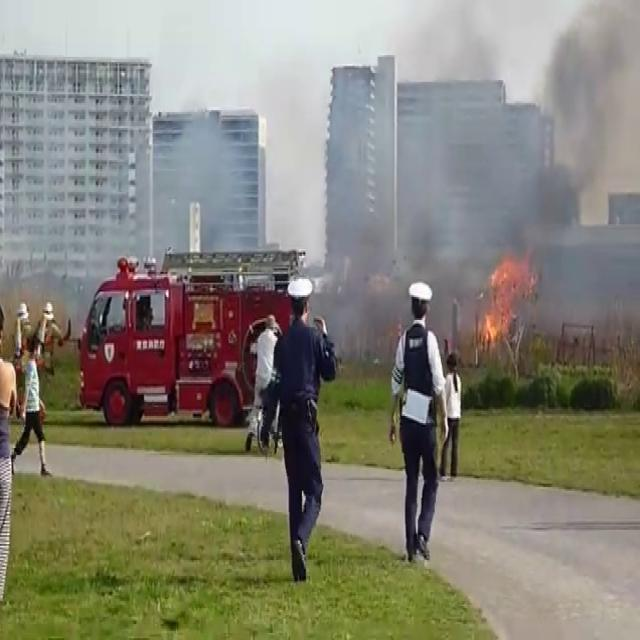Fire: (472, 250, 542, 348)
Smoke: (316, 1, 639, 324)
